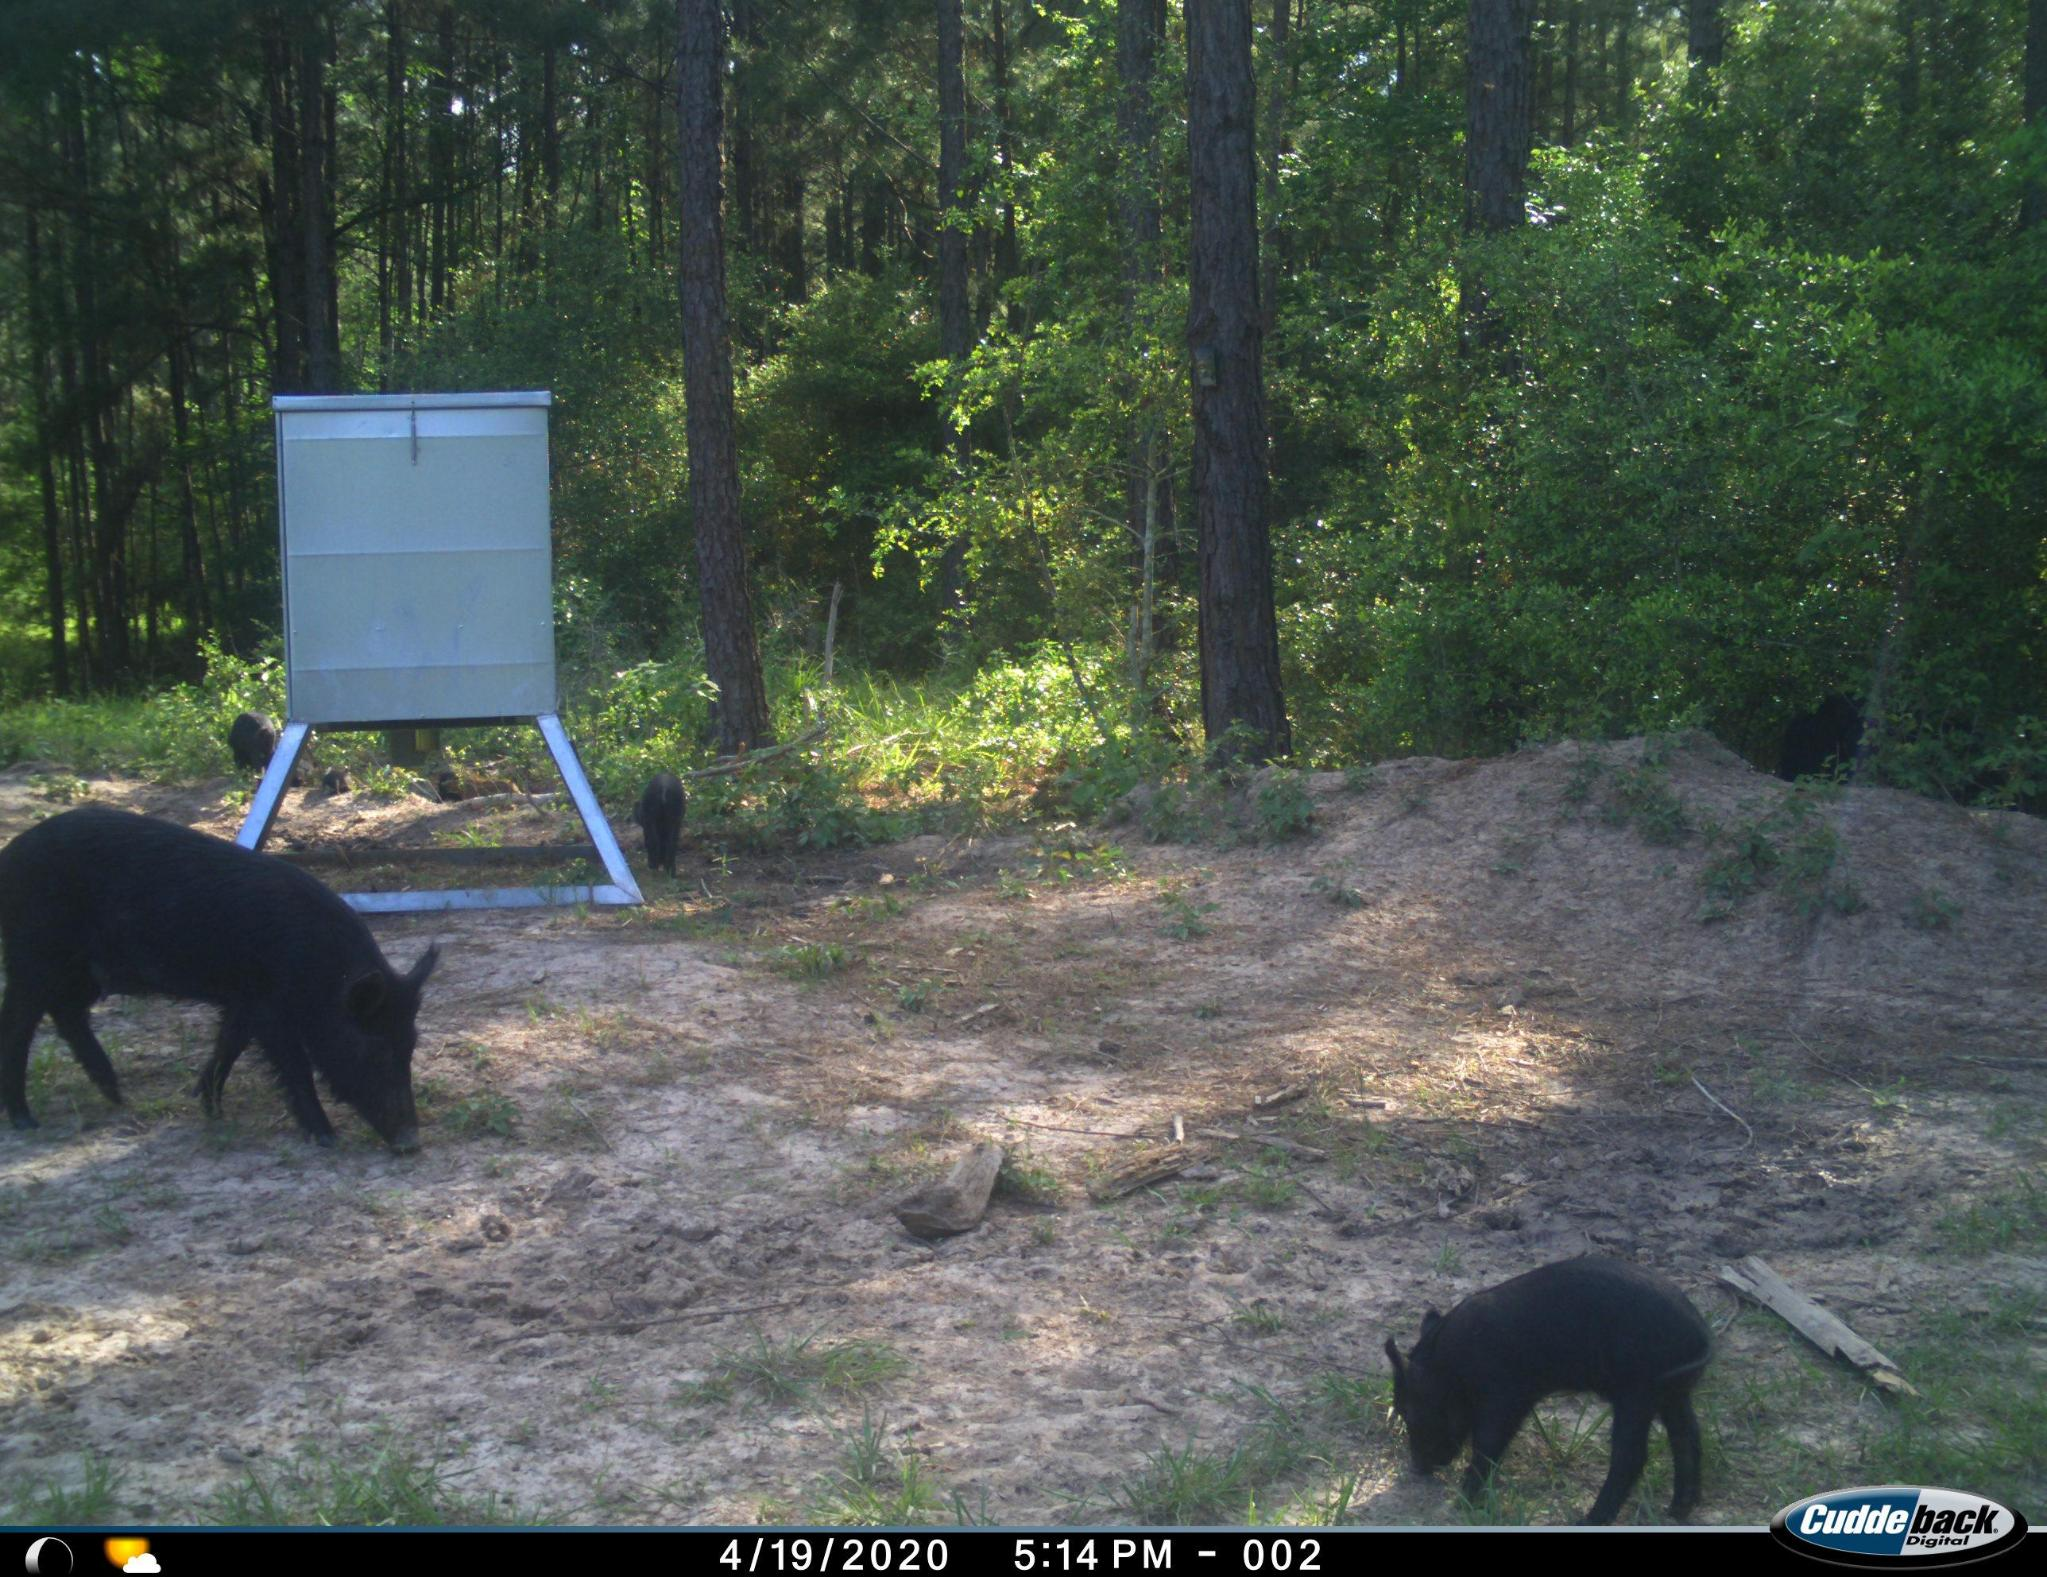Hog: (0, 777, 452, 1176), (1361, 1246, 1726, 1522), (631, 765, 696, 883)
